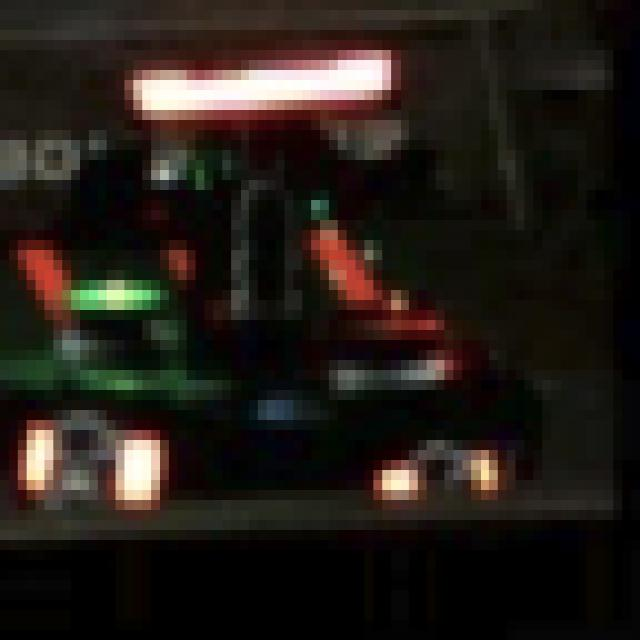Rs: (18, 410, 160, 510)
